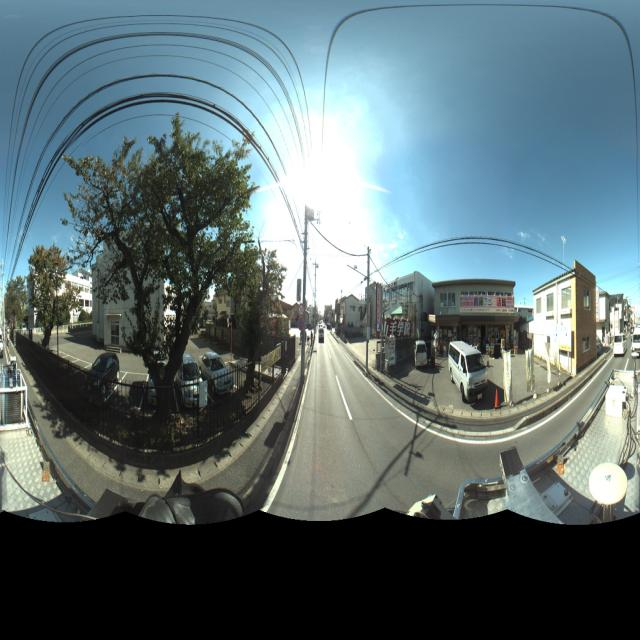b_1: (530, 256, 595, 374), (434, 272, 517, 354), (379, 264, 439, 344)
b_2: (96, 219, 179, 370), (12, 233, 108, 359)
